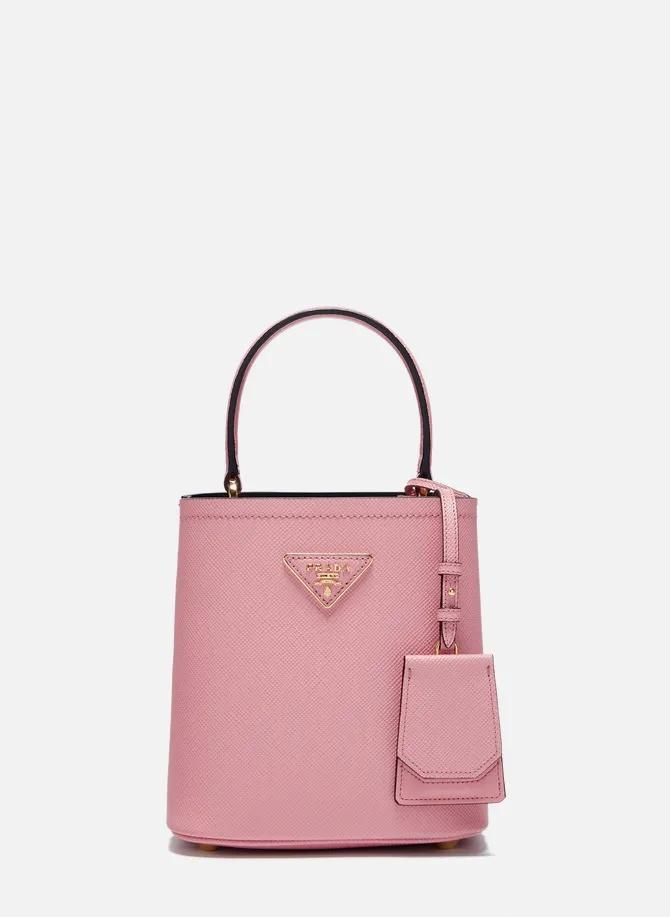PRADA: (282, 553, 373, 609)
